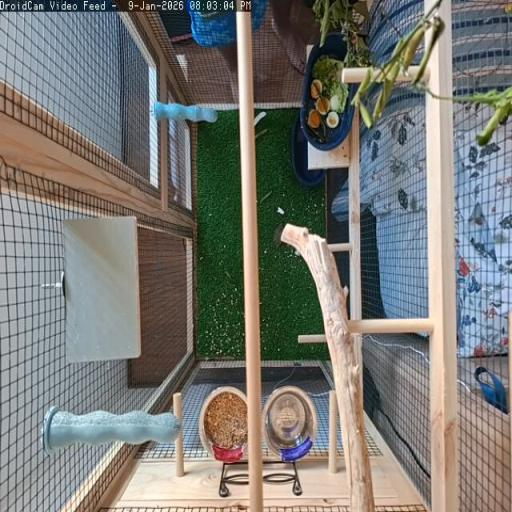bebedero: (263, 388, 316, 462), (263, 386, 315, 461), (199, 386, 247, 462)
comedero: (198, 386, 247, 463)
